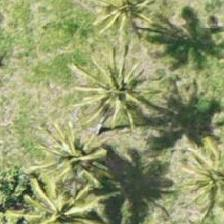coconut_tree: (28, 119, 118, 209), (73, 51, 163, 141), (79, 0, 169, 52), (175, 131, 223, 221)
